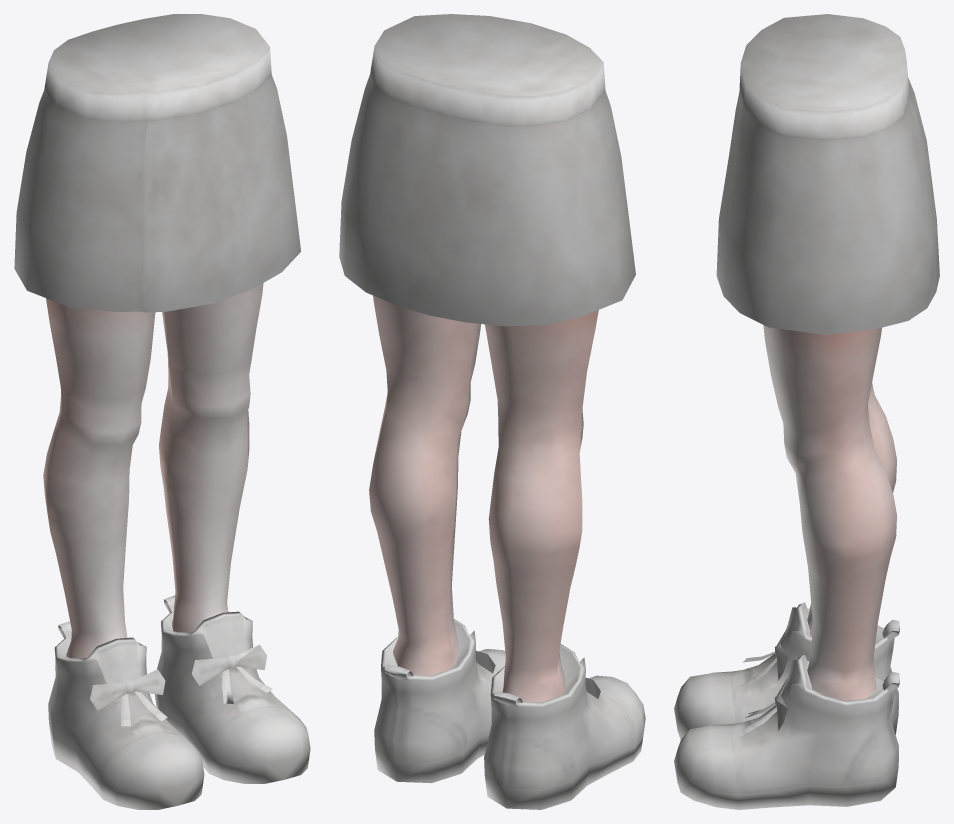
The model's file is tr0750_00_lwb02.gltf.
3 renders of one model, left to right at view 1: azimuth 30°, elevation 25°; view 2: azimuth 150°, elevation 25°; view 3: azimuth 270°, elevation 25°, orthographic. The views are drawn at different scales.
Parts seen in each view (by area): view 1: lwb02_cloth_mesh_shape:lowerbody02, lwb02_shoes_mesh_shape:lowerbody02; view 2: lwb02_cloth_mesh_shape:lowerbody02, lwb02_shoes_mesh_shape:lowerbody02; view 3: lwb02_cloth_mesh_shape:lowerbody02, lwb02_shoes_mesh_shape:lowerbody02.
Part boxes in pixels (x1=…): lwb02_cloth_mesh_shape:lowerbody02: x1=14, y1=14, x2=300, y2=658; lwb02_shoes_mesh_shape:lowerbody02: x1=48, y1=595, x2=310, y2=809; lwb02_cloth_mesh_shape:lowerbody02: x1=339, y1=14, x2=635, y2=702; lwb02_shoes_mesh_shape:lowerbody02: x1=374, y1=619, x2=645, y2=809; lwb02_cloth_mesh_shape:lowerbody02: x1=716, y1=14, x2=939, y2=700; lwb02_shoes_mesh_shape:lowerbody02: x1=674, y1=602, x2=899, y2=809.
Size of what is drawn, in the model's own units: 0.3828 by 0.9676 by 0.3337.
1 material, 1 textured.
